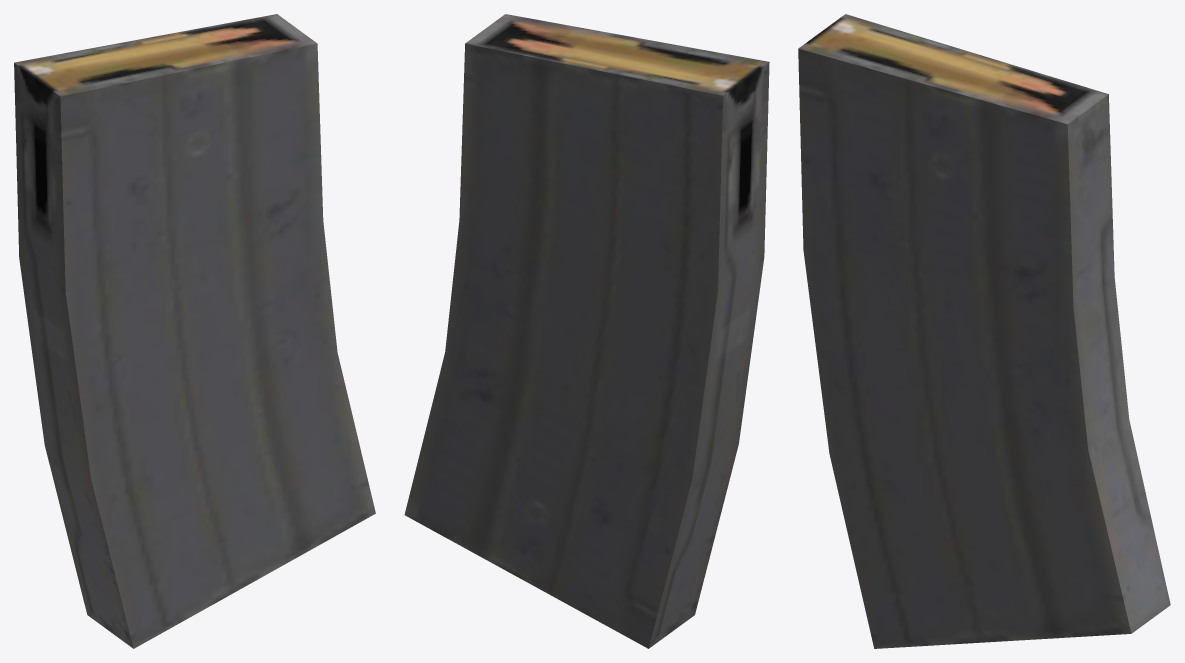
The model's file is ST_WEP_Mini14_Mag.FBX.
3 views of the same model, side by side, from view 1: azimuth 30°, elevation 25°; view 2: azimuth 150°, elevation 25°; view 3: azimuth 330°, elevation 25° (orthographic). The views are drawn at different scales.
Parts seen in each view (by area): view 1: ST_WEP_Mini14_Mag; view 2: ST_WEP_Mini14_Mag; view 3: ST_WEP_Mini14_Mag.
Part boxes in pixels (box(x1,y1,x2,y2)): ST_WEP_Mini14_Mag: box(14, 14, 375, 648); ST_WEP_Mini14_Mag: box(404, 14, 769, 648); ST_WEP_Mini14_Mag: box(798, 14, 1170, 648).
Size of the model in its own units: 7.13 by 12.11 by 1.81.
1 material, 1 textured.
